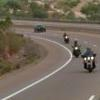Motorcycle: (67, 40, 98, 78)
